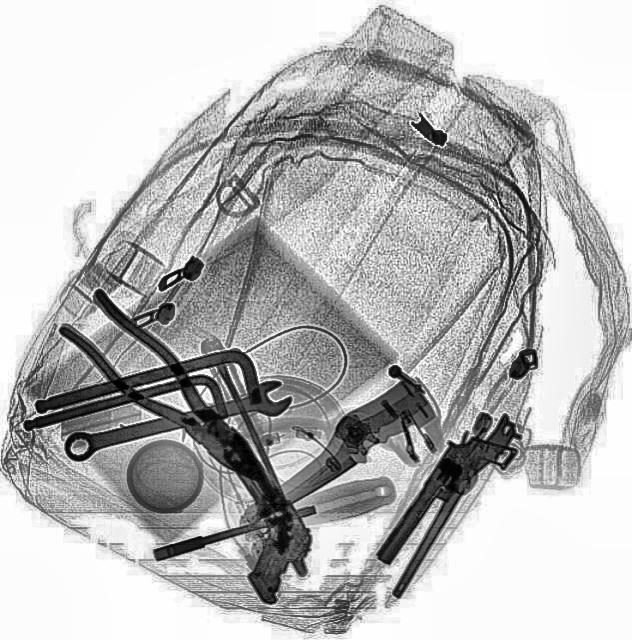Gun: (157, 427, 343, 605), (370, 418, 516, 584)
Pliers: (54, 285, 282, 503)
Wrench: (58, 375, 294, 463)
